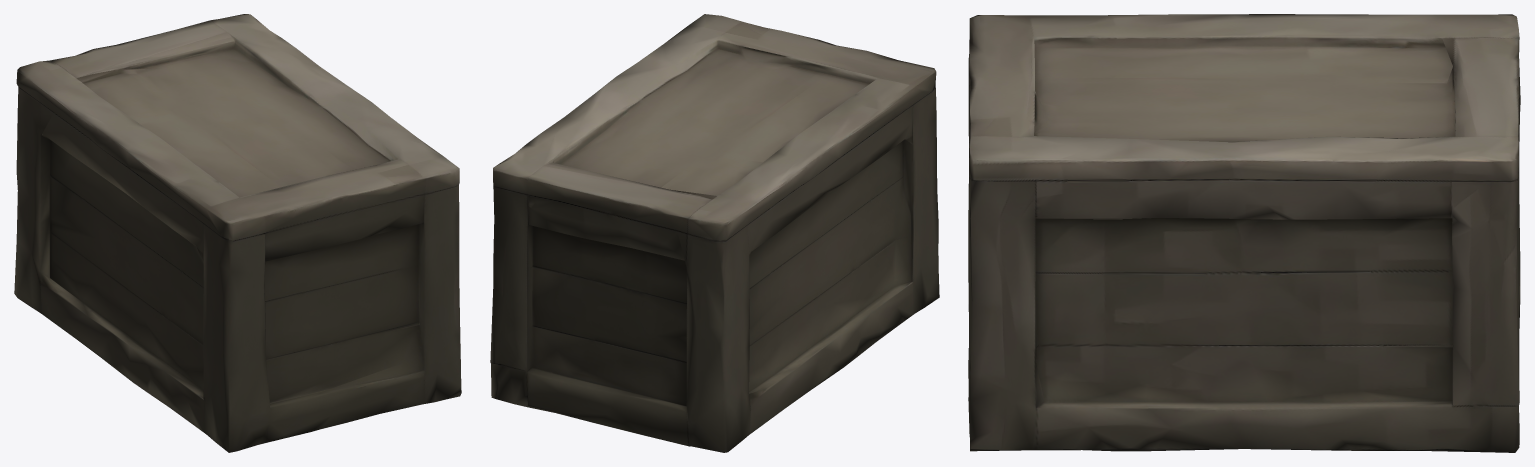
The model's file is wooden+crate+3d+model (2).glb.
3 views of the same model, side by side, from view 1: azimuth 30°, elevation 25°; view 2: azimuth 150°, elevation 25°; view 3: azimuth 270°, elevation 25° (orthographic). The views are drawn at different scales.
Parts seen in each view (by area): view 1: tripo_node_a659f0e4-784c-4d07-87ad-7aecf6c1fe5a; view 2: tripo_node_a659f0e4-784c-4d07-87ad-7aecf6c1fe5a; view 3: tripo_node_a659f0e4-784c-4d07-87ad-7aecf6c1fe5a.
Part boxes in pixels (x1,y1,x2,y2): tripo_node_a659f0e4-784c-4d07-87ad-7aecf6c1fe5a: [14, 14, 461, 452]; tripo_node_a659f0e4-784c-4d07-87ad-7aecf6c1fe5a: [490, 14, 939, 452]; tripo_node_a659f0e4-784c-4d07-87ad-7aecf6c1fe5a: [968, 14, 1520, 452].
Bounding box in the file's own units: 0.6278 × 0.5898 × 1.
1 material, 1 textured.
